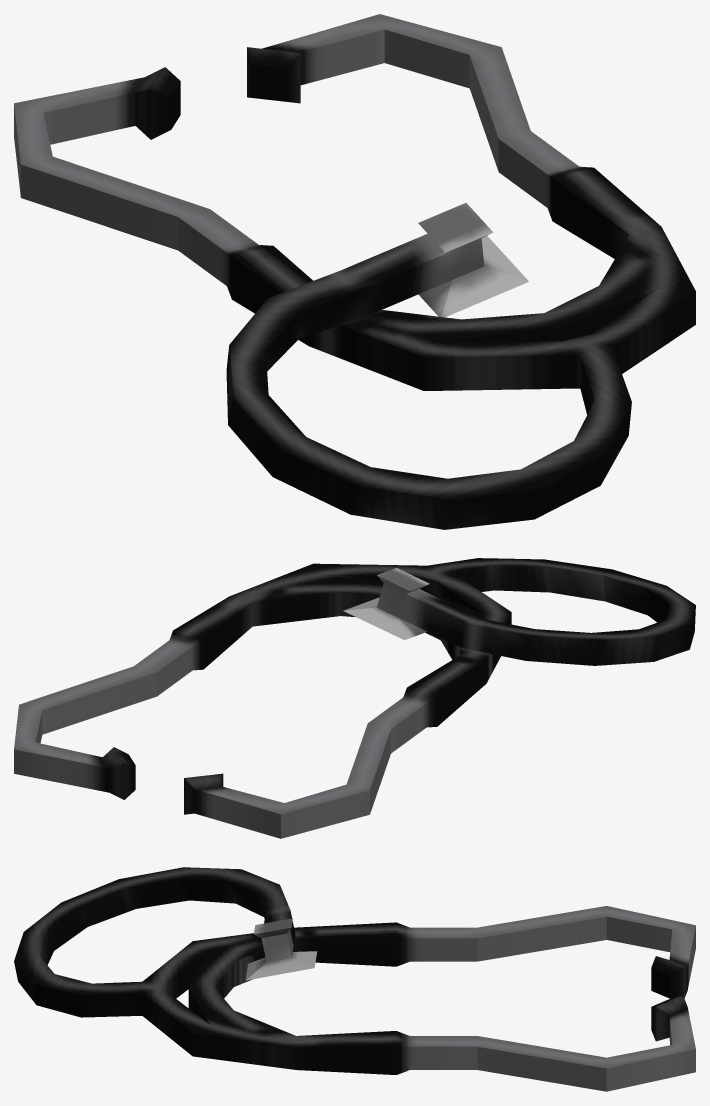
Rendered from Stethoscope.fbx.
3 renders of one model, top to bottom at view 1: azimuth 30°, elevation 25°; view 2: azimuth 150°, elevation 25°; view 3: azimuth 270°, elevation 25°, orthographic. The views are drawn at different scales.
Parts seen in each view (by area): view 1: Stethoscope; view 2: Stethoscope; view 3: Stethoscope.
Part boxes in pixels (box(x1,y1,x2,y2)): Stethoscope: box(14, 14, 695, 529); Stethoscope: box(14, 558, 695, 838); Stethoscope: box(14, 867, 695, 1091).
Size of the model in its own units: 0.1791 by 0.0421 by 0.2658.
